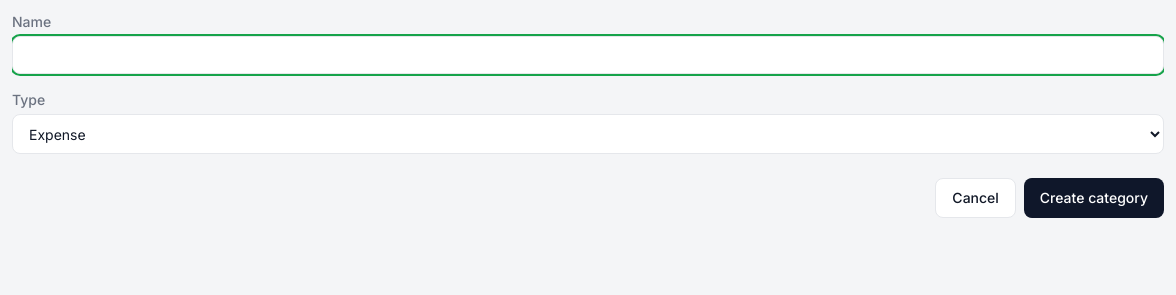
Test: CategoryForm › flattens a validation problem into a single message
Type "x" into the field labelled "Name" at x=588, y=55, box [12,36,1164,74]
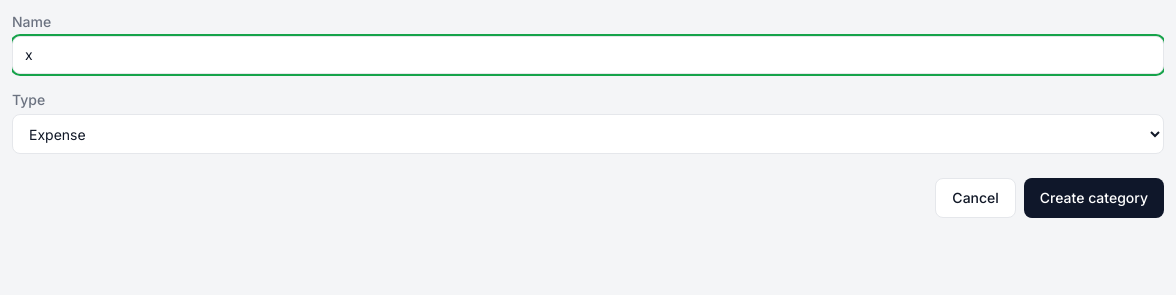
Click the button "Create category" at x=1094, y=198, box [1024,178,1164,218]
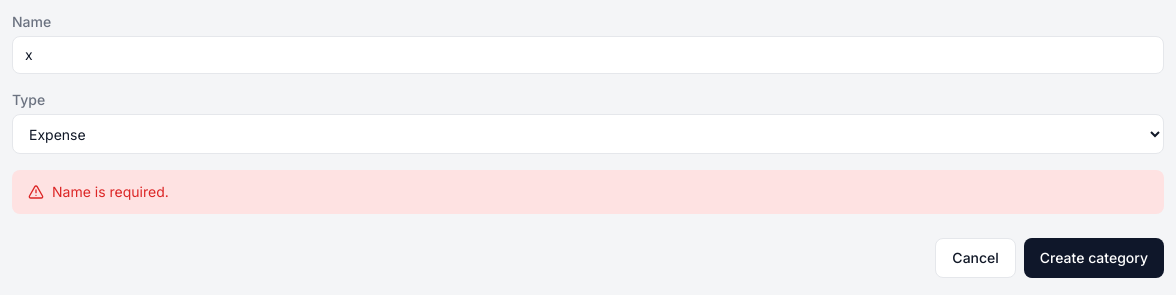
Result: the text "Name is required." is shown at [52,182,169,202]
